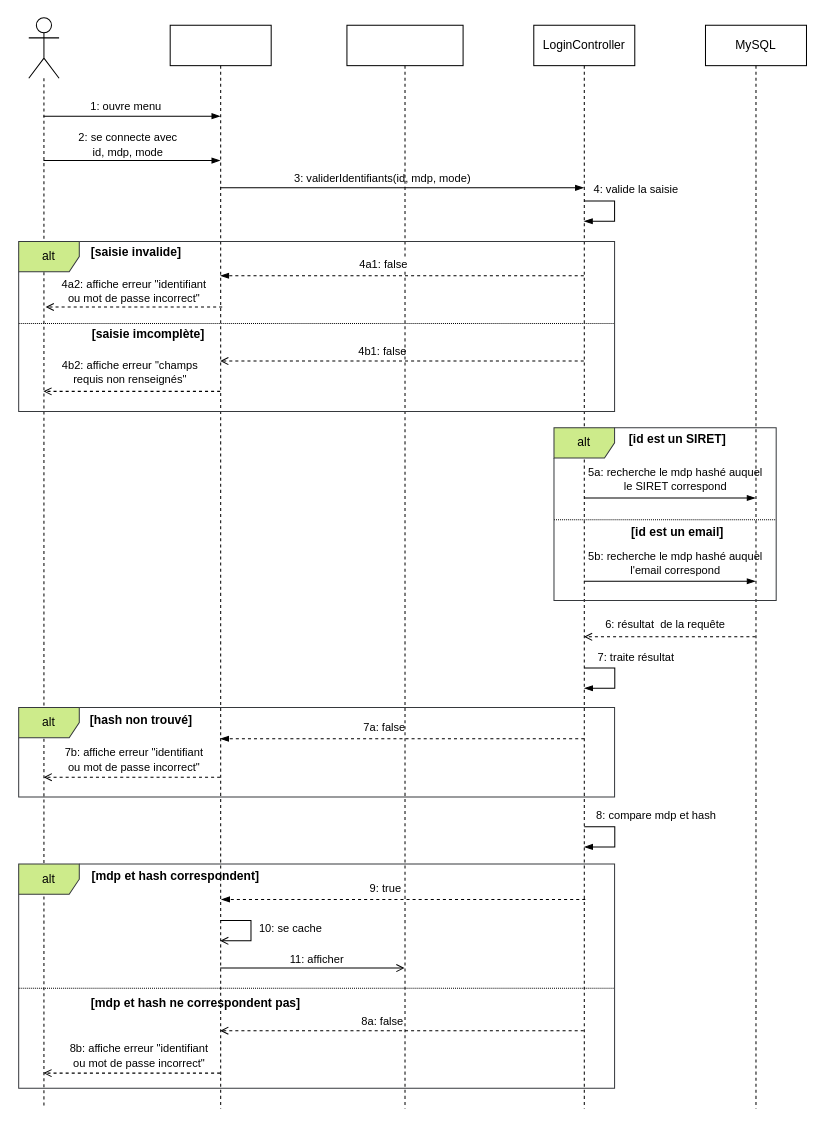
Some shapes in this 824 by 1126 pixel diagram are drawn without their labels. The box of each missing label's shape, as (x1, y1, x2, y2) in pixels:
ConnexionUI: (169, 24, 271, 1108)
TableauBoardUI: (346, 24, 463, 1108)
Utilisateur: (28, 17, 59, 1108)
